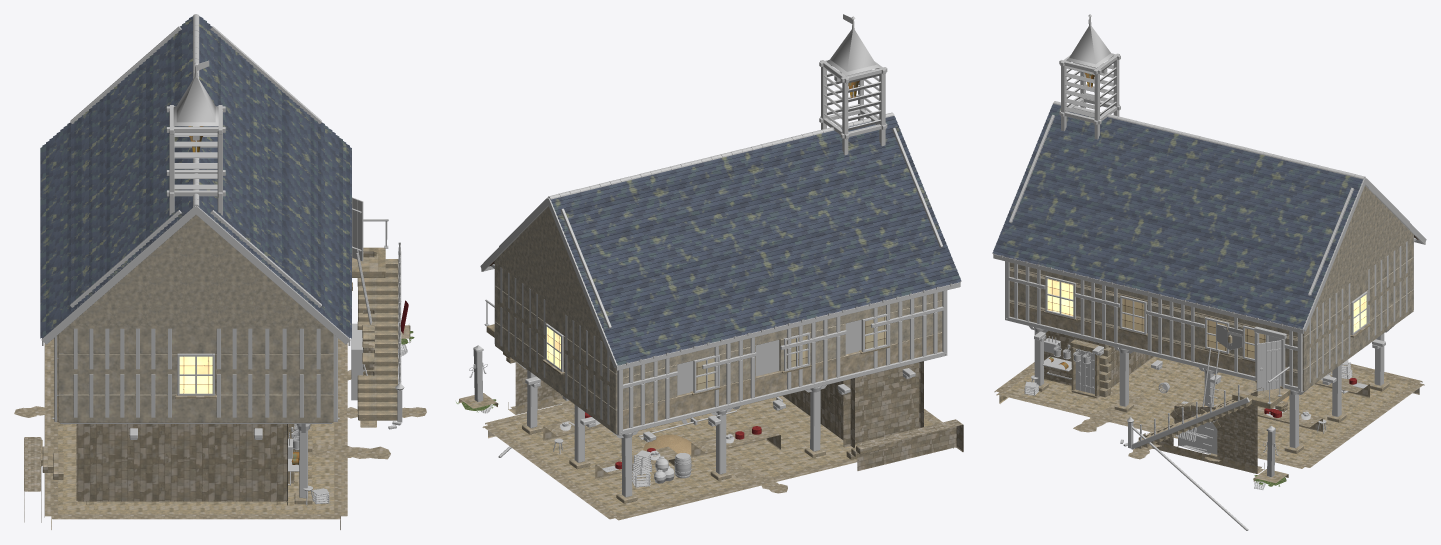
File: moot_hall.gltf
3 renders of one model, left to right at view 1: azimuth 30°, elevation 25°; view 2: azimuth 150°, elevation 25°; view 3: azimuth 270°, elevation 25°, orthographic. The views are drawn at different scales.
Visible parts, largest first — view 1: moot_hall#0_0, moot_hall#n1_n1, moot_hall#n1_0; view 2: moot_hall#0_0, moot_hall#n1_n1, moot_hall#n1_0, moot_hall#0_n1; view 3: moot_hall#0_0, moot_hall#n1_n1, moot_hall#0_n1, moot_hall#n1_0.
Boxes of the visible parts, bbox=[...] form: moot_hall#0_0: bbox=[14, 14, 426, 529]; moot_hall#n1_n1: bbox=[40, 16, 351, 338]; moot_hall#n1_0: bbox=[24, 77, 299, 522]; moot_hall#0_0: bbox=[459, 14, 961, 520]; moot_hall#n1_n1: bbox=[550, 116, 961, 483]; moot_hall#n1_0: bbox=[826, 29, 963, 470]; moot_hall#0_n1: bbox=[456, 316, 885, 469]; moot_hall#0_0: bbox=[992, 14, 1426, 530]; moot_hall#n1_n1: bbox=[992, 104, 1362, 374]; moot_hall#0_n1: bbox=[1122, 298, 1362, 489]; moot_hall#n1_0: bbox=[1047, 26, 1113, 378].
Bounding box in the file's own units: 17.85 × 17.83 × 17.56.
